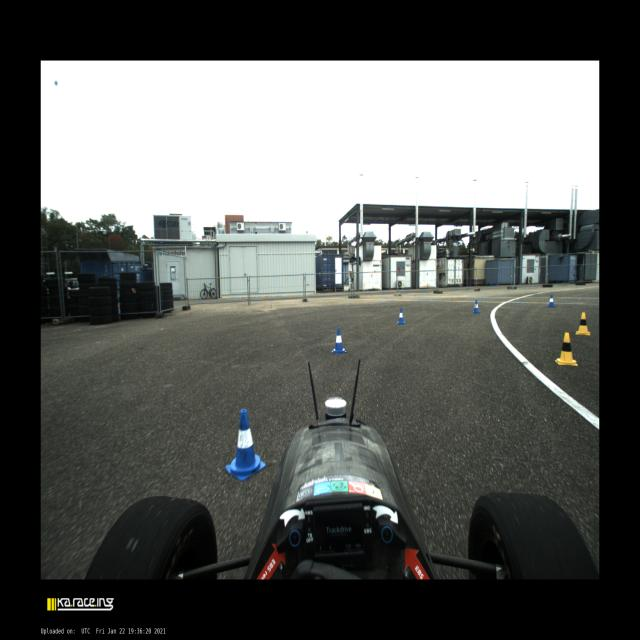blue_cone: (225, 409, 266, 481), (332, 328, 346, 354), (396, 308, 406, 325), (472, 300, 480, 314), (548, 294, 556, 308)
yellow_cone: (555, 332, 578, 366), (576, 312, 591, 336)
